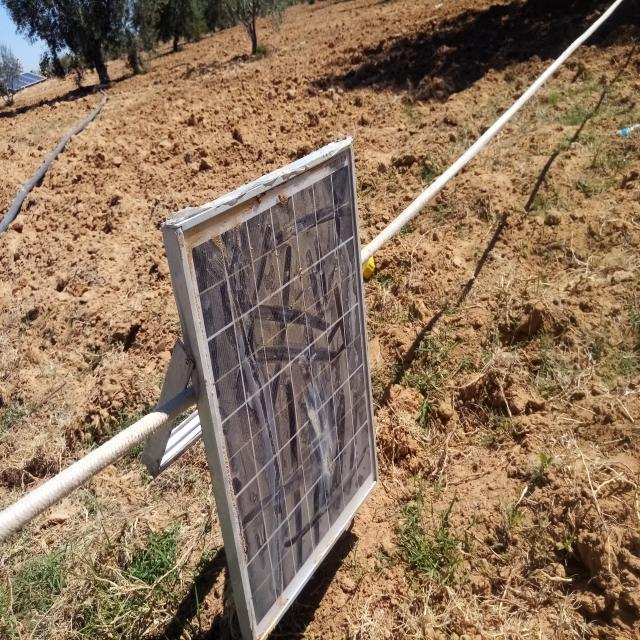faulty: (180, 142, 378, 640)
